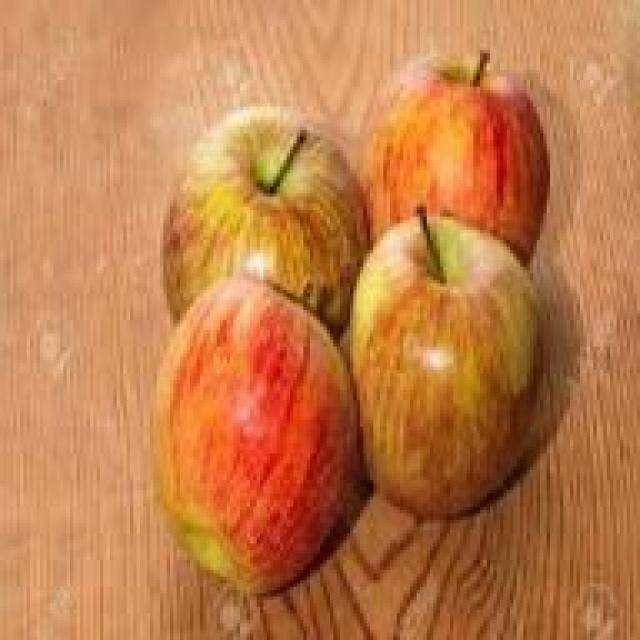apple: (350, 216, 547, 516), (147, 287, 360, 563), (157, 120, 363, 360), (360, 20, 540, 290)
